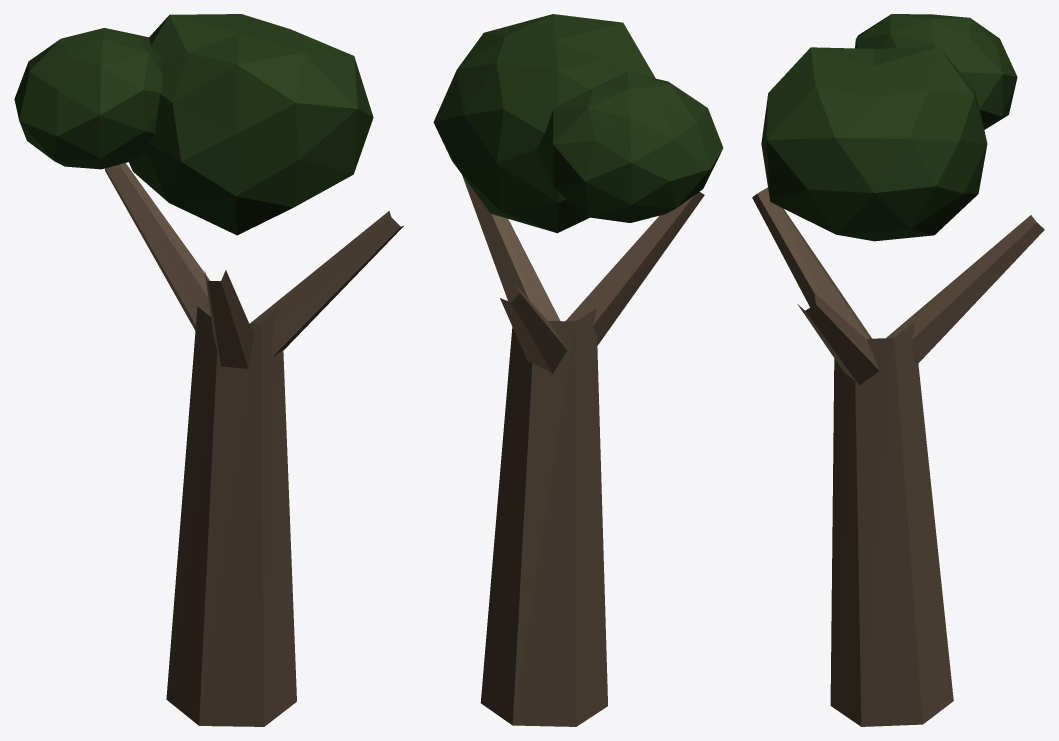
File: 1972-Ecosystem-trees-oak-1.glb
3 renders of one model, left to right at view 1: azimuth 30°, elevation 25°; view 2: azimuth 150°, elevation 25°; view 3: azimuth 270°, elevation 25°, orthographic. The views are drawn at different scales.
Parts seen in each view (by area): view 1: Ecosystem trees/oak/1; view 2: Ecosystem trees/oak/1; view 3: Ecosystem trees/oak/1.
Boxes of the visible parts, x1,y1,x2,y2 form: Ecosystem trees/oak/1: [14, 14, 403, 726]; Ecosystem trees/oak/1: [433, 14, 723, 726]; Ecosystem trees/oak/1: [752, 14, 1044, 726].
Bounding box in the file's own units: 0.3142 × 0.6413 × 0.2654.
